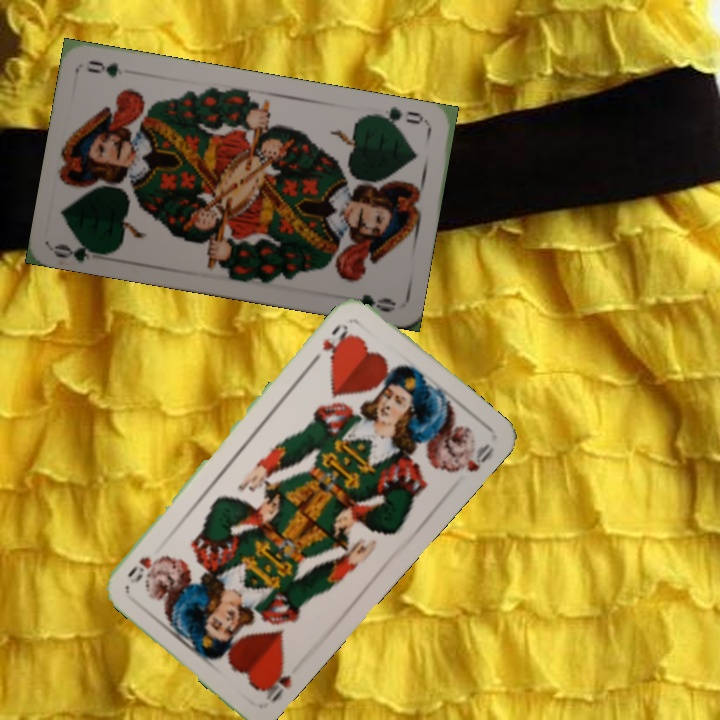GO: (51, 235, 112, 264), (370, 102, 430, 131)
HO: (256, 657, 295, 705), (318, 319, 355, 362)
